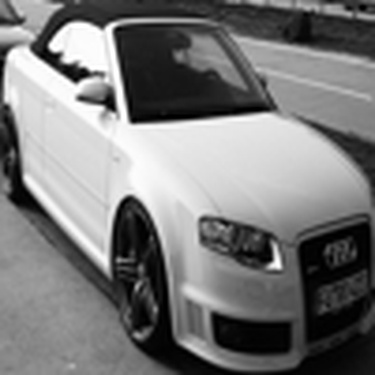car: (8, 8, 364, 357)
